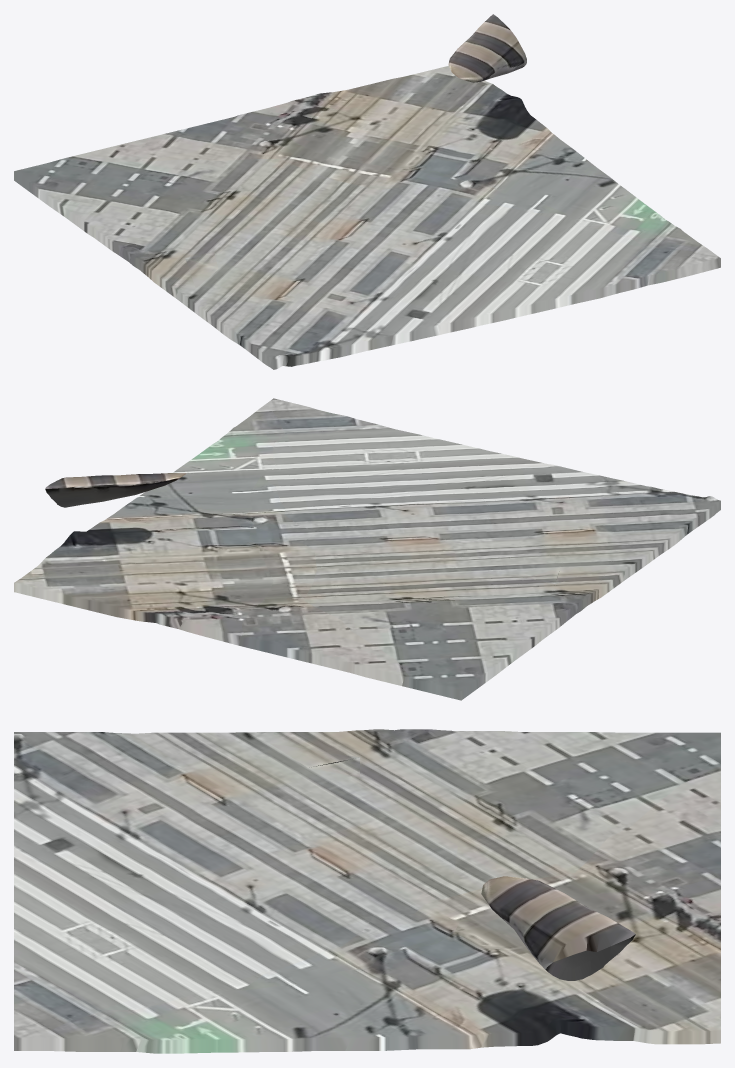
The model's file is z20-167789-405221-h0-yup-uvflip-v3-world.glb.
The picture shows the model from 3 angles, top to bottom: view 1: azimuth 30°, elevation 25°; view 2: azimuth 150°, elevation 25°; view 3: azimuth 270°, elevation 25°; orthographic projection. The views are drawn at different scales.
Size of the model in its own units: 30.16 by 5.72 by 30.32.
Materials: 1 (1 with a texture image).
